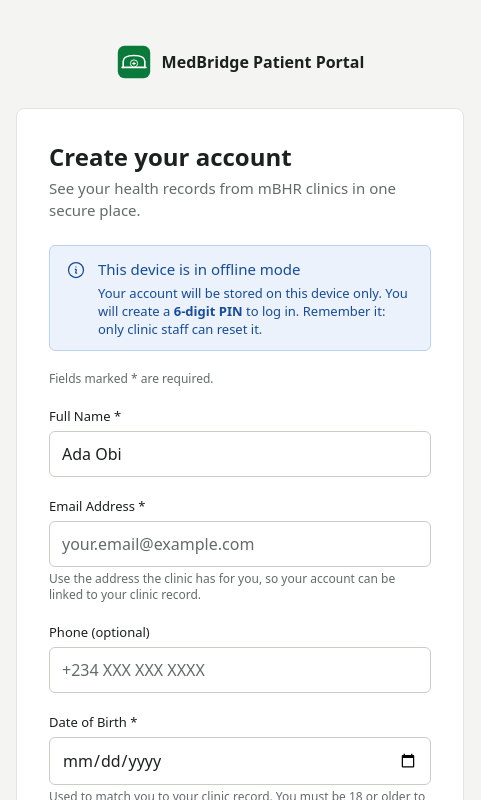
Test: PatientRegister (offline mode) › shows error when PINs do not match
The image size is (481, 800).
Earlier steps of the test are not shown.
Type "ada@test.com" into the field labelled "Email Address *" at (240, 544), box [49, 521, 431, 567]
Type "1990-01-01" into the date field labelled "Date of Birth *" at (240, 761), box [49, 737, 431, 785]
(page scrolled)
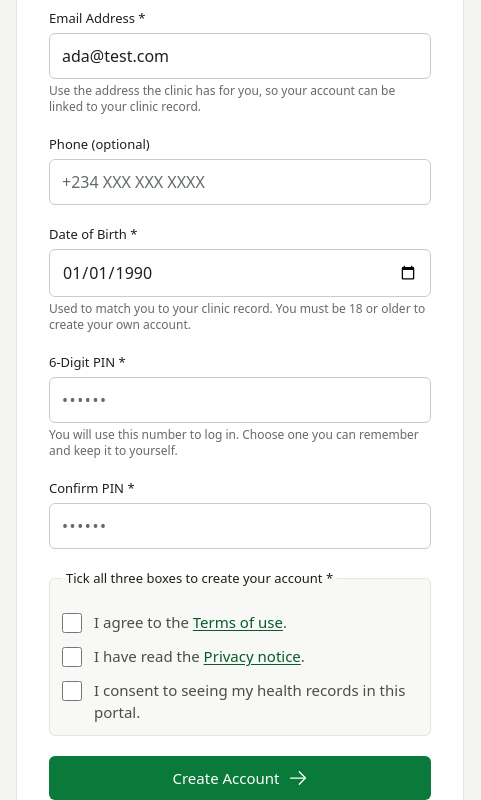
Type "123456" into the password field labelled "6-Digit PIN *" at (240, 400), box [49, 377, 431, 423]
Type "654321" into the password field labelled "Confirm PIN *" at (240, 526), box [49, 503, 431, 549]
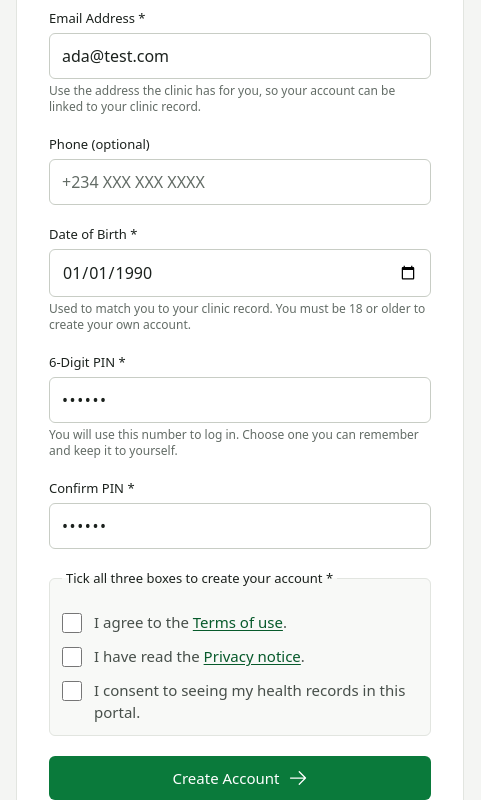
Click the checkbox with id "consent-terms" at (72, 623), box [62, 613, 82, 633]
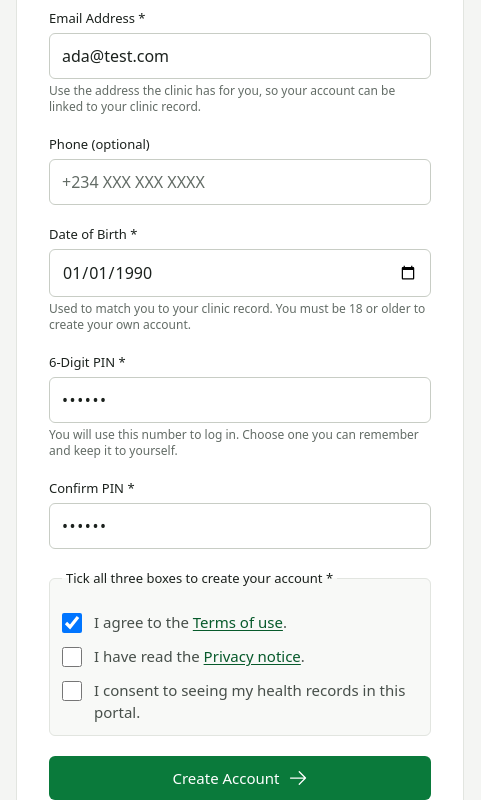
Click the checkbox with id "consent-privacy" at (72, 657), box [62, 647, 82, 667]
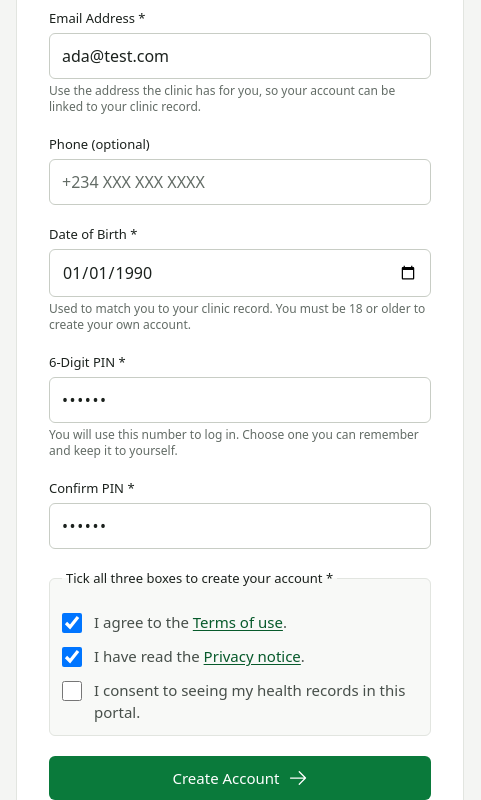
Click the checkbox with id "consent-records" at (72, 691), box [62, 681, 82, 701]
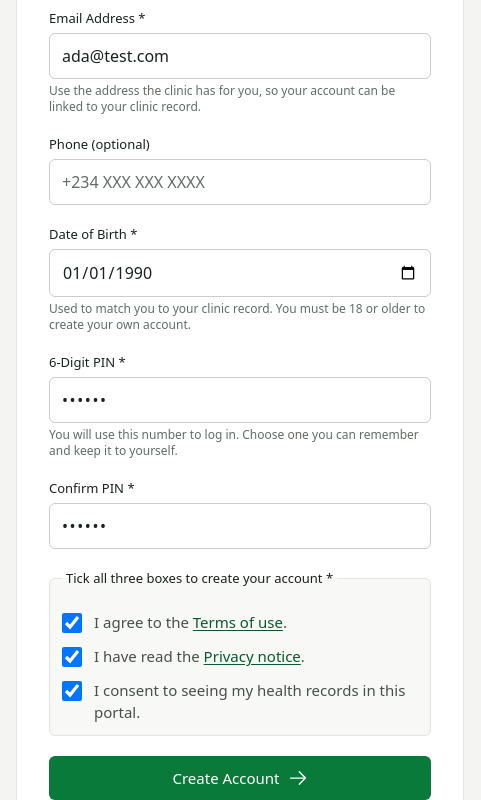
Submit the form from the button "Create Account", box [49, 756, 431, 799]
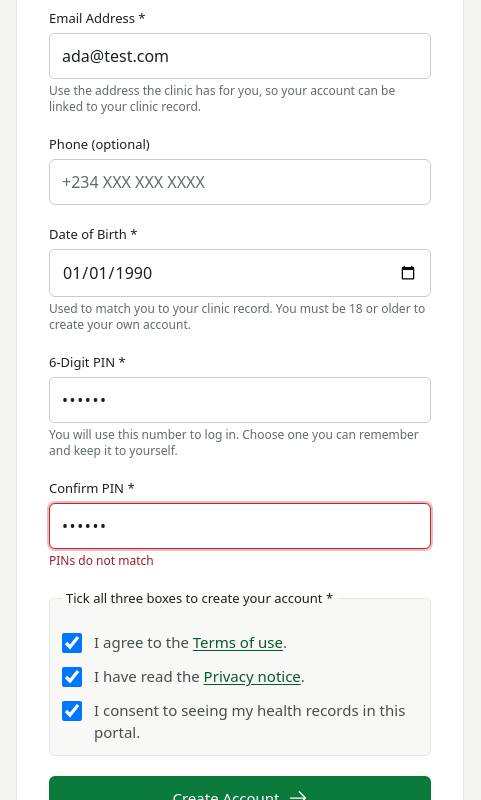
Result: the text "PINs do not match" is shown at [49, 552, 154, 569]
